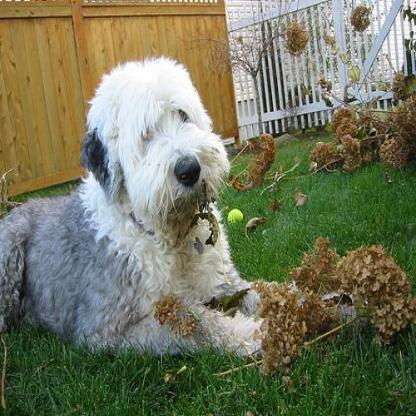Old_English_sheepdog: (0, 53, 353, 353)
